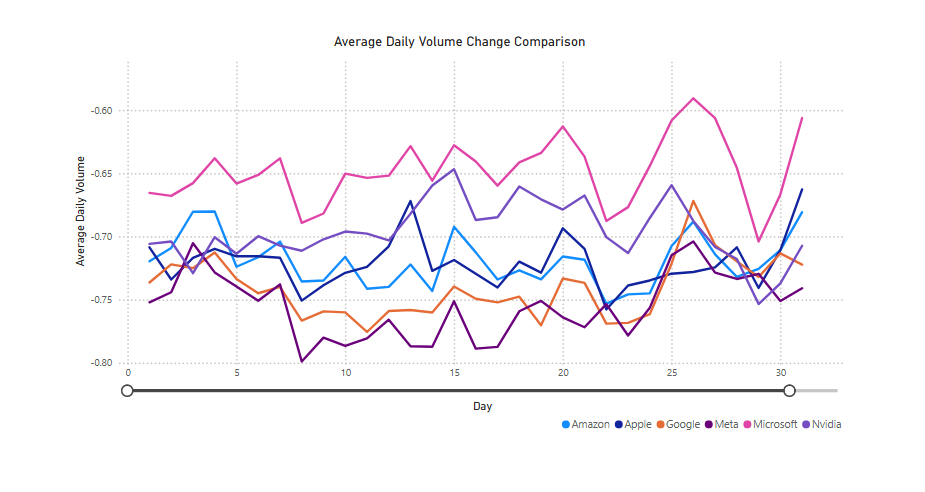

The page's visual inventory and layout, read from the dashboard file:
{"tool":"powerbi","page":{"name":"Daily Volume Change","canvas":[1280,720],"ordinal":3},"visuals":[{"type":"lineChart","title":"Average Daily Volume Change Comparison ","fields":{"Y":["Avg(Stock Market Dataset.VolumeChangeAmazon)","Avg(Stock Market Dataset.VolumeChangeApple)","Avg(Stock Market Dataset.VolumeChangeGoogle)","Avg(Stock Market Dataset.VolumeChangeMeta)","Avg(Stock Market Dataset.VolumeChangeMicrosoft)","Avg(Stock Market Dataset.VolumeChangeNvidia)"],"Category":["Stock Market Dataset.Date.Variation.Date Hierarchy.Day"]},"box":[149.3,79.4,982.7,512.1],"z":0}]}

Visuals, with their boxes on the page's 1280x720 design canvas (x1, y1, x2, y2). These are canvas units, not pixel positions in the 925x492 screenshot, which may show the page scaled, cropped or inside an application window:
"Average Daily Volume Change Comparison " lineChart: (left=149, top=79, right=1132, bottom=592)
